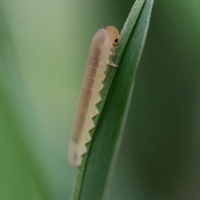insect: (68, 26, 119, 166), (105, 26, 119, 45)
